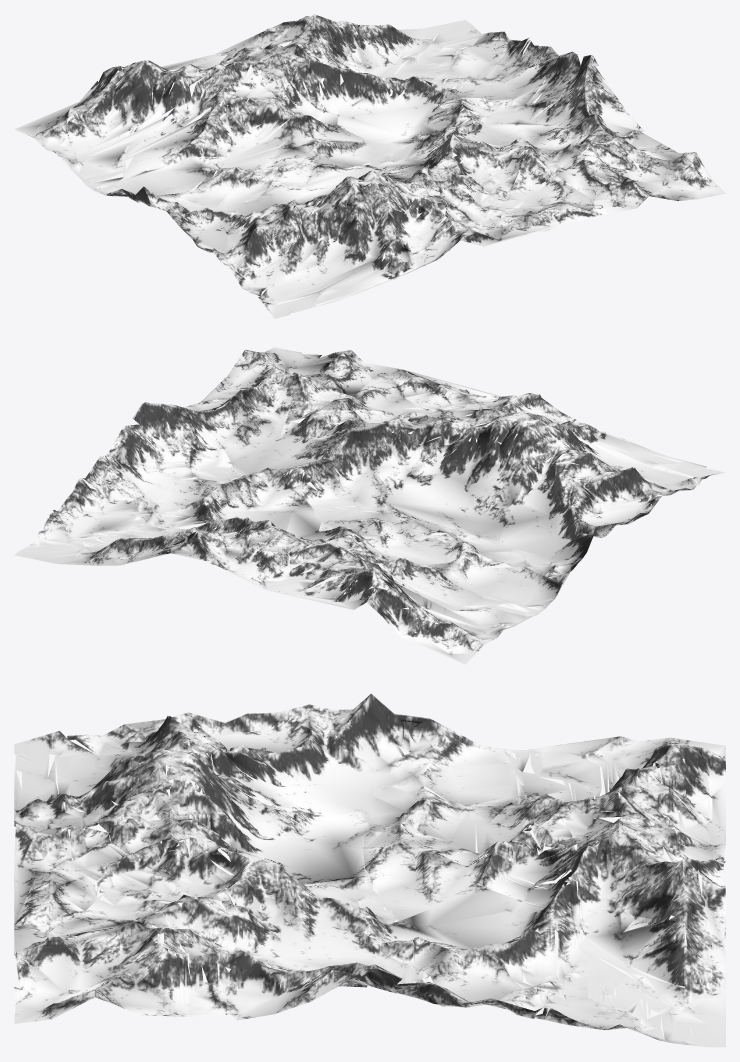
The model's file is mountain-lo.glb.
3 renders of one model, top to bottom at view 1: azimuth 30°, elevation 25°; view 2: azimuth 150°, elevation 25°; view 3: azimuth 270°, elevation 25°, orthographic. The views are drawn at different scales.
Parts seen in each view (by area): view 1: Object_2; view 2: Object_2; view 3: Object_2.
Part boxes in pixels (x1,y1,x2,y2): Object_2: (14,14,725,318); Object_2: (14,347,725,664); Object_2: (14,694,725,1047).
Bounding box in the file's own units: 1 × 0.1401 × 1.
1 material, 1 textured.
